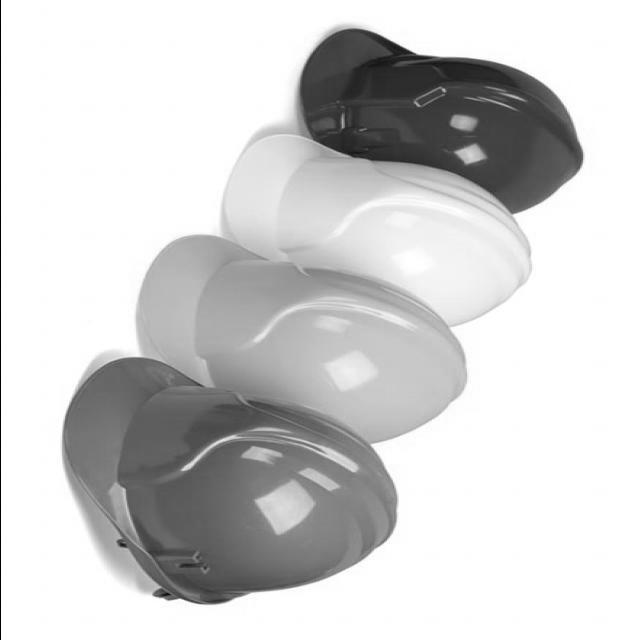construction helmet: (61, 353, 396, 606), (132, 234, 467, 445), (216, 130, 531, 330), (293, 26, 582, 217)
